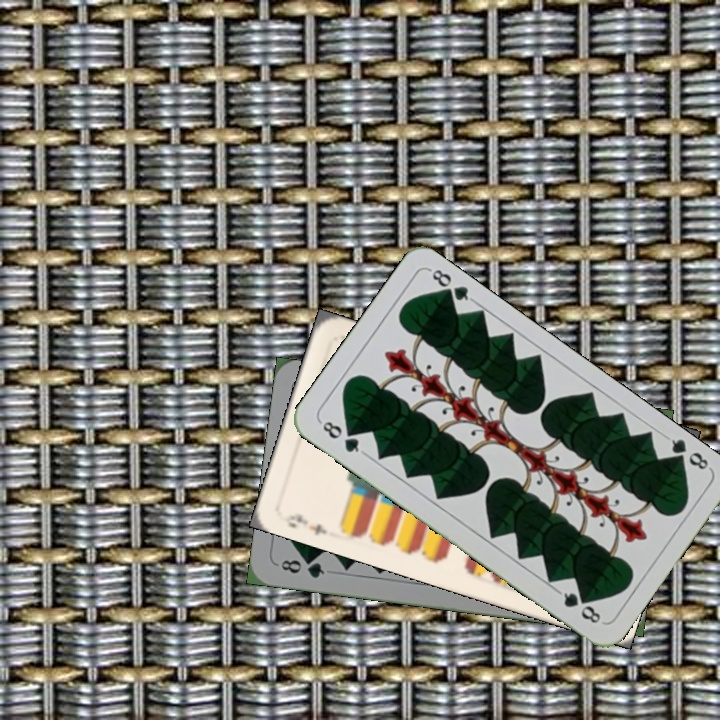E9: (280, 509, 330, 538)
G8: (662, 432, 714, 473), (316, 417, 367, 457), (276, 555, 327, 581)
